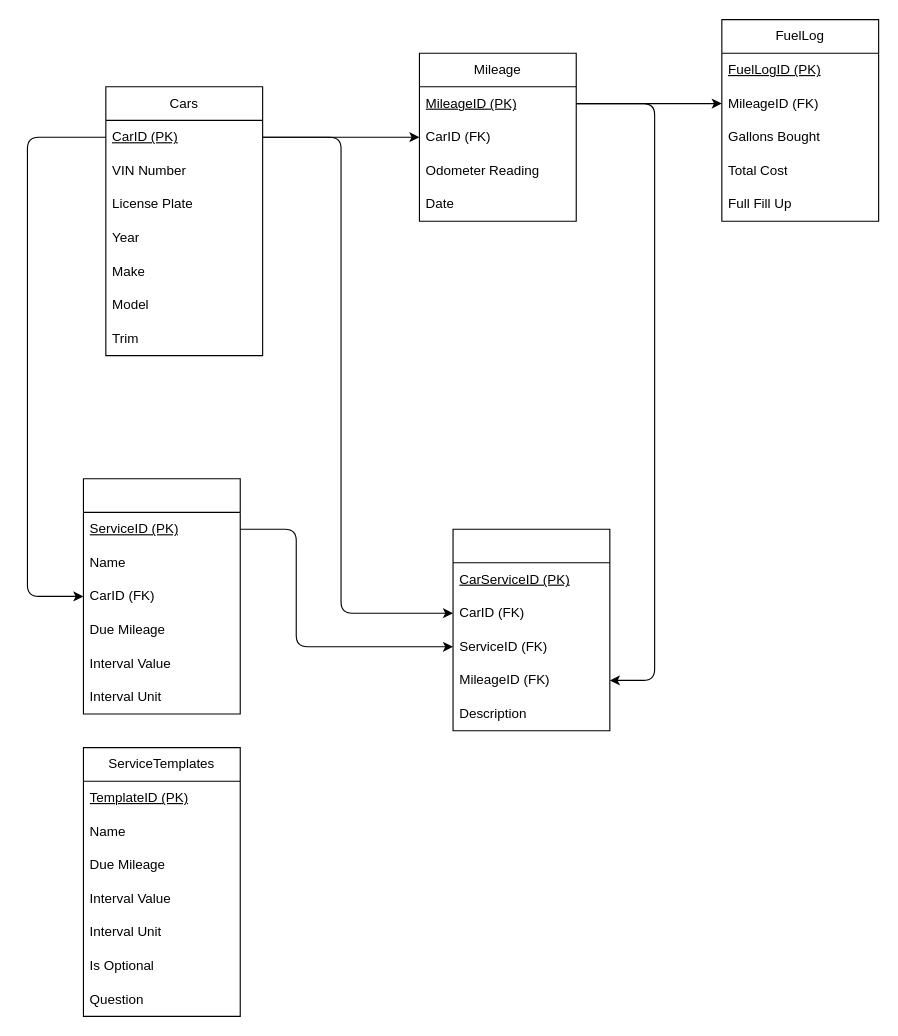
Image size: 898x1036. Some labels were removed from this diagram. Each missing label, with the box of its shape:
RecurringServices: (82, 478, 240, 714)
ServiceDone: (452, 528, 610, 731)
